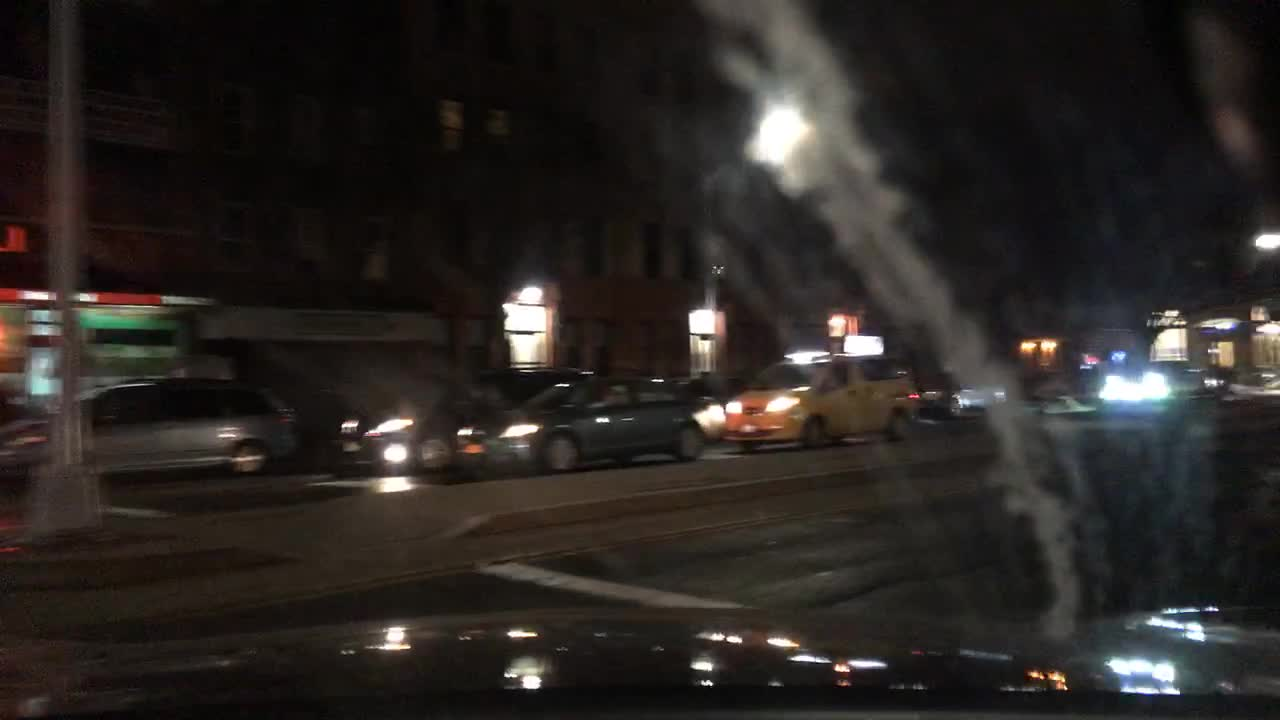car: (448, 362, 728, 477), (320, 360, 594, 476), (718, 348, 923, 452), (914, 372, 1011, 419), (1169, 363, 1228, 403)
traffic light: (0, 377, 302, 480), (1, 223, 25, 260)
